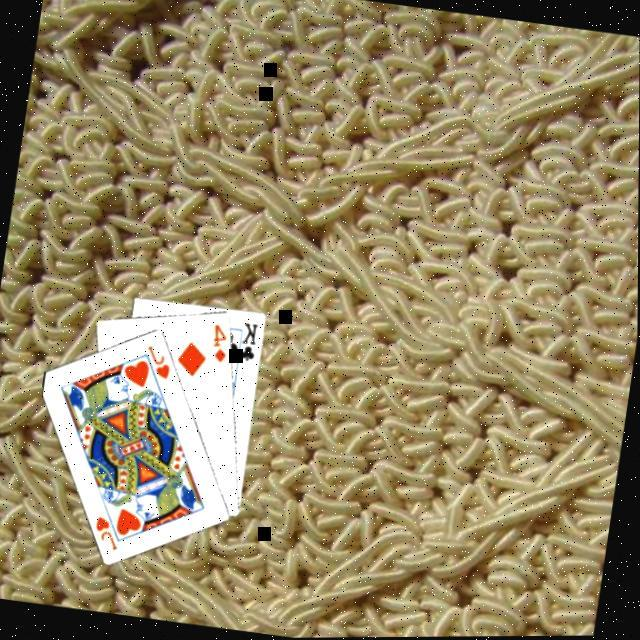4D: (205, 318, 233, 366)
JH: (89, 511, 124, 553), (140, 340, 174, 381)
KC: (231, 318, 261, 368)
